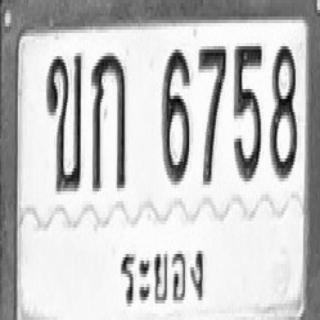A01: (91, 51, 126, 190)
A02: (46, 53, 82, 191)
N05: (233, 43, 262, 182)
N06: (162, 46, 190, 181)
N07: (198, 43, 226, 185)
N08: (270, 43, 297, 178)
P53: (114, 232, 208, 315)
